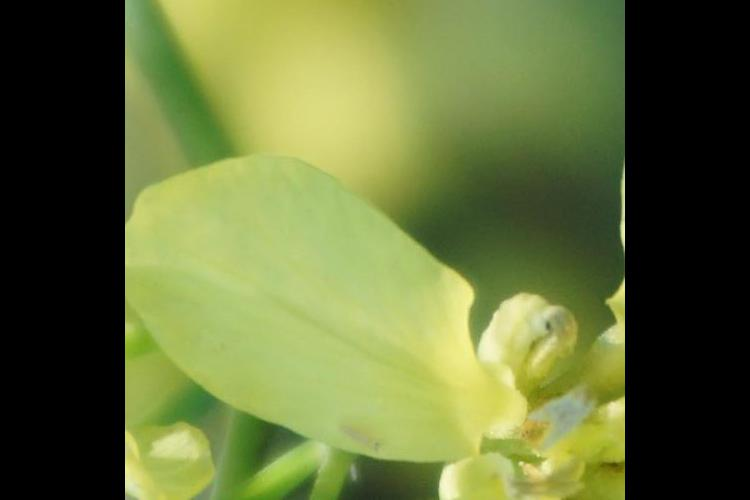yellow: (142, 159, 625, 500)
